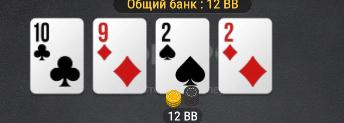10c: (30, 19, 84, 93)
2d: (220, 20, 271, 93)
2s: (157, 19, 209, 93)
9d: (94, 19, 146, 94)
